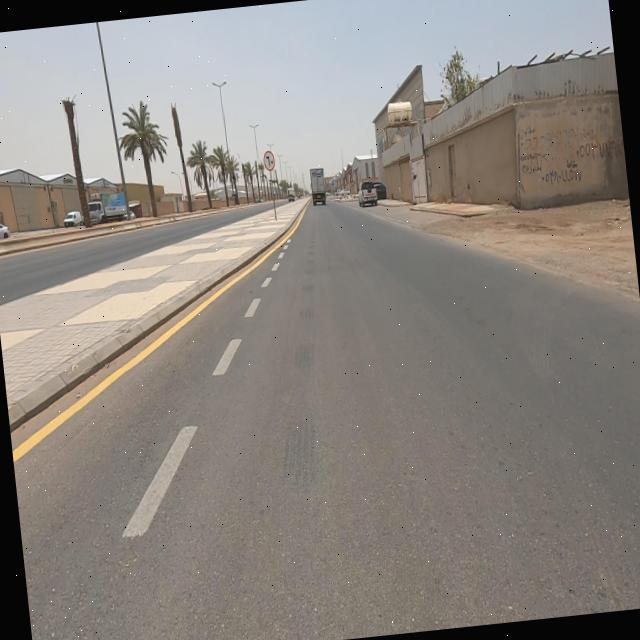Graffiti: (518, 115, 628, 188)
